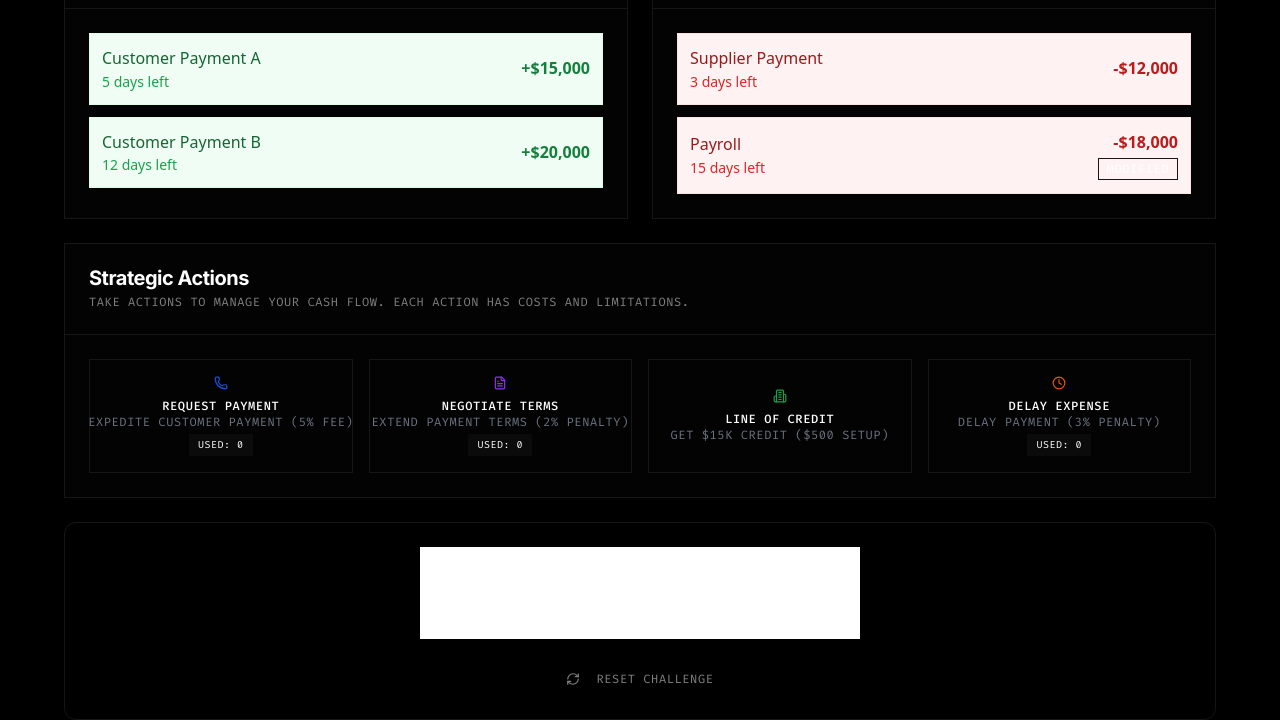
Test case: CashFlowChallenge › allows requesting payment action
(page scrolled)
Click the button "Request Payment Expedite customer payment (5% fee) Used: 0" at (221, 416), box [89,359,352,473]
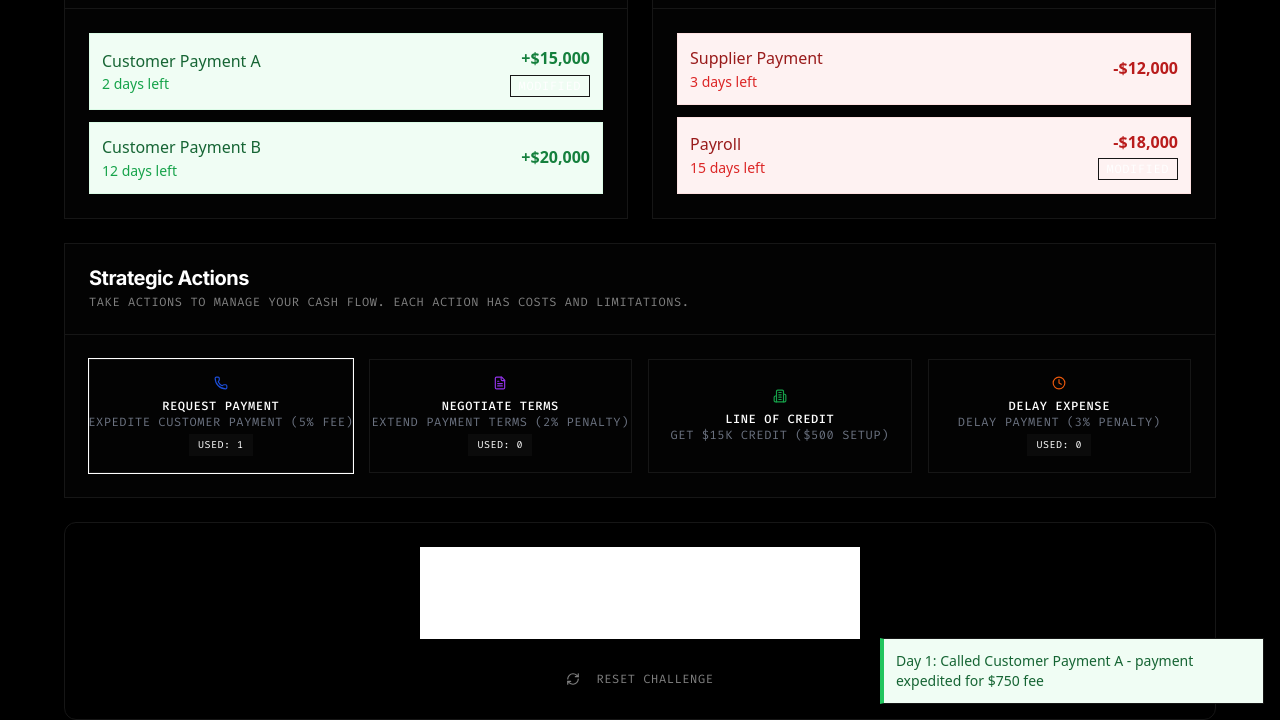
Check: the text "Used: 1" is shown, box [189,434,252,456]
